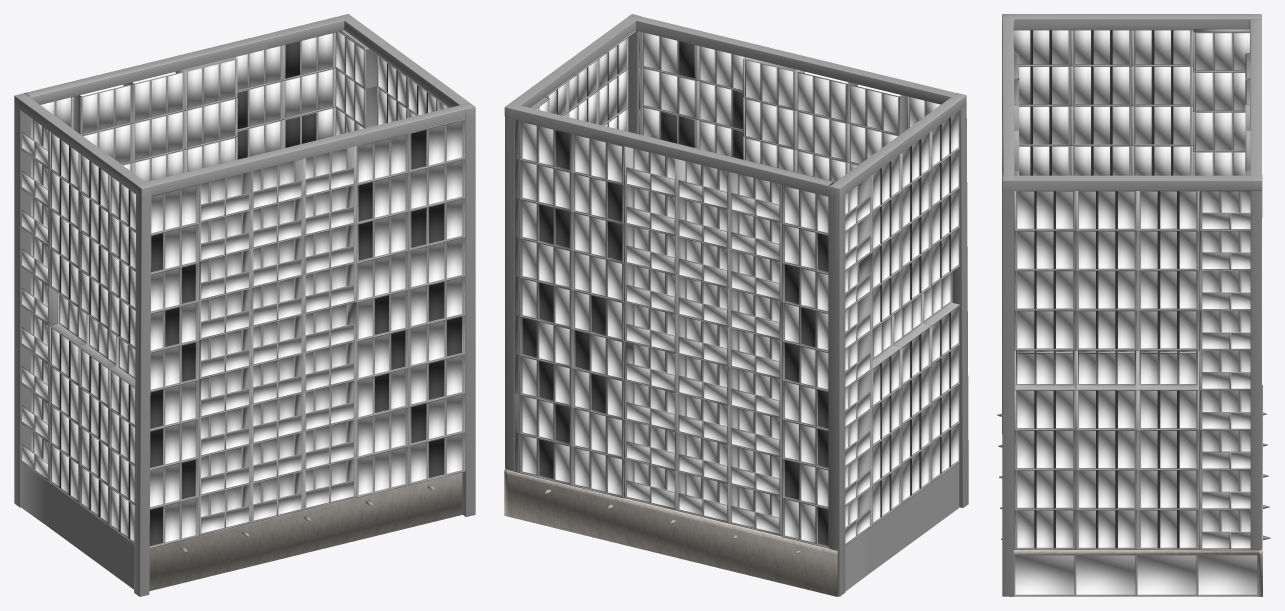
The model's file is realcity_00.gltf.
3 views of the same model, side by side, from view 1: azimuth 30°, elevation 25°; view 2: azimuth 150°, elevation 25°; view 3: azimuth 270°, elevation 25° (orthographic). The views are drawn at different scales.
Visible parts, largest first — view 1: realcity_00; view 2: realcity_00; view 3: realcity_00.
Boxes of the visible parts, x1,y1,x2,y2 form: realcity_00: [14, 14, 475, 596]; realcity_00: [504, 14, 968, 596]; realcity_00: [997, 14, 1270, 596].
Size of the model in its own units: 25.27 by 29.55 by 17.42.
6 materials, 2 textured.
